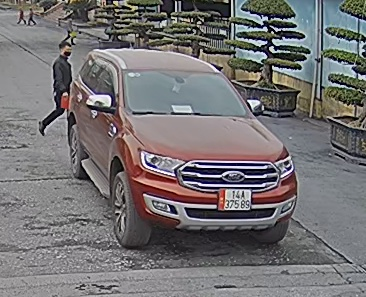vehicle plate: (218, 185, 252, 213)
